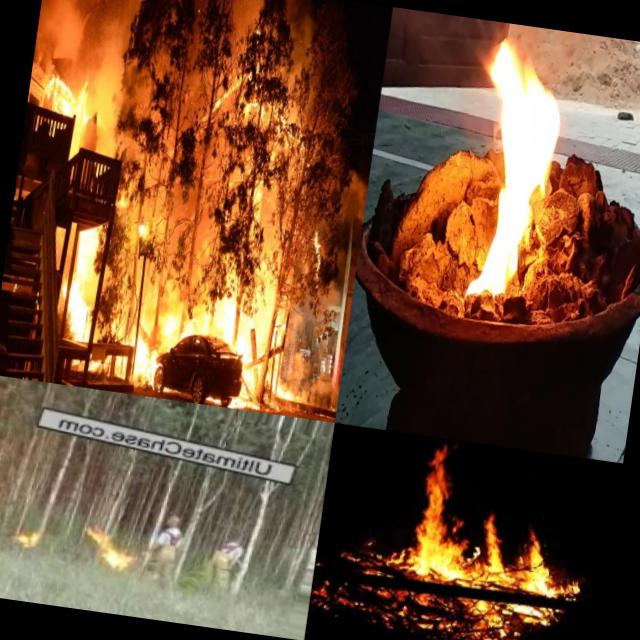fire: (386, 438, 594, 638), (446, 27, 574, 314), (54, 218, 120, 358), (120, 291, 192, 401), (34, 48, 106, 124), (84, 521, 144, 577), (12, 526, 50, 552)
smoke: (389, 8, 540, 54), (35, 0, 138, 62)
